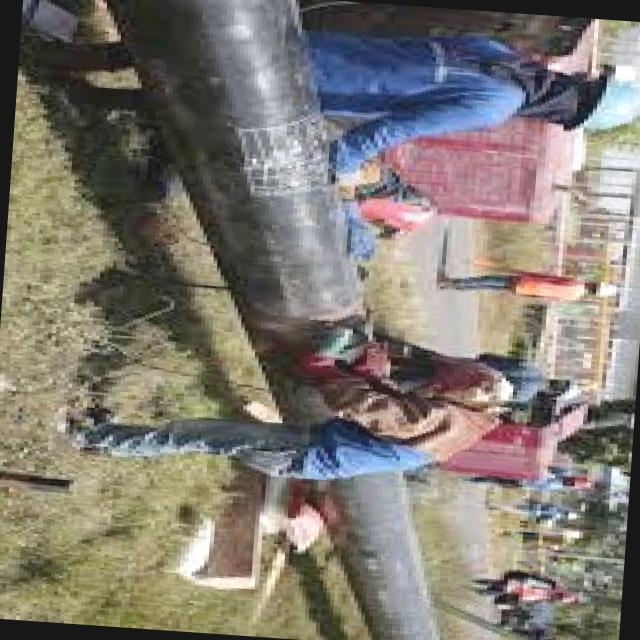gas: (111, 0, 361, 422), (332, 473, 435, 640)
